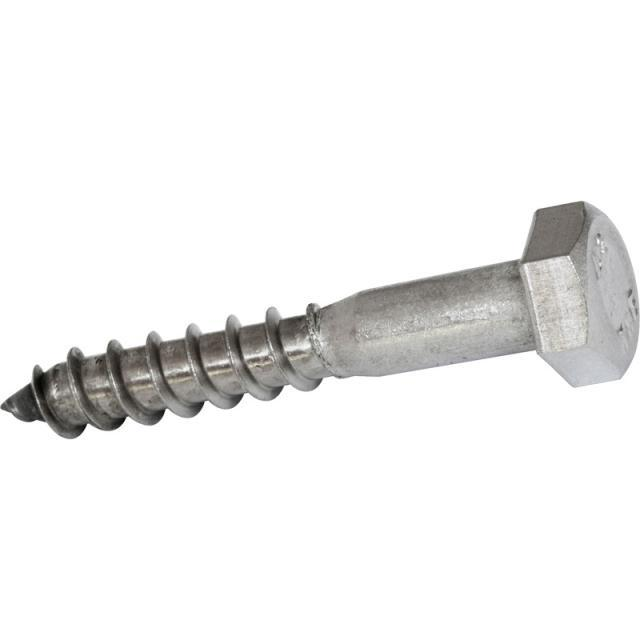Dry Waste: (0, 130, 640, 588)
